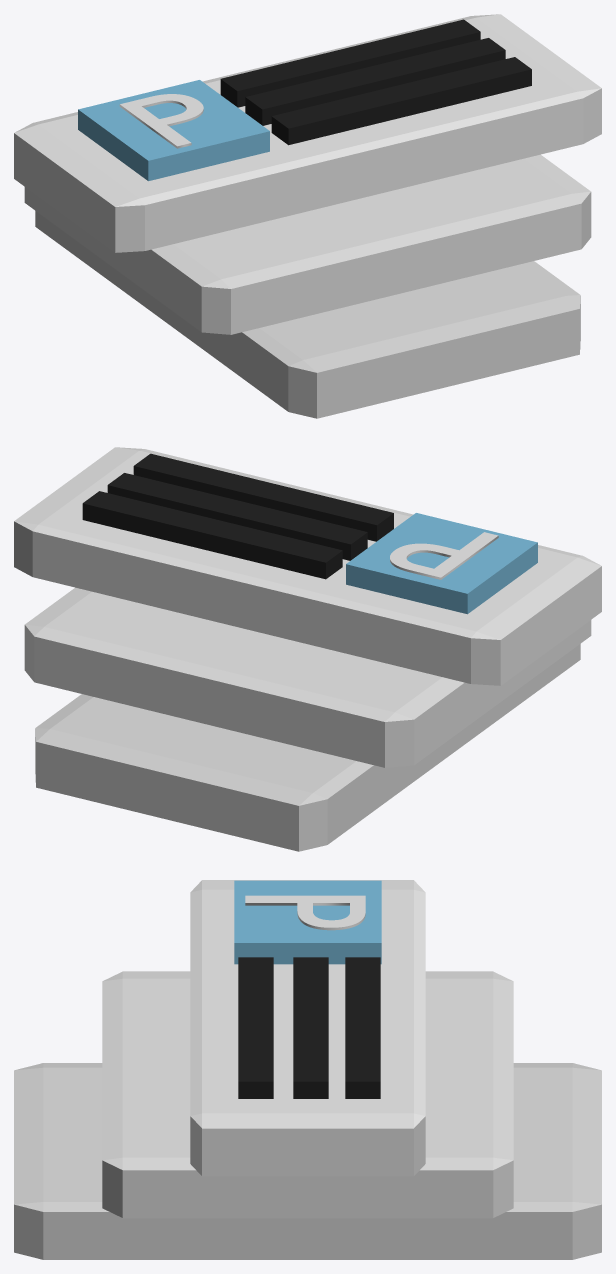
File: iconPosts.gltf
3 renders of one model, top to bottom at view 1: azimuth 30°, elevation 25°; view 2: azimuth 150°, elevation 25°; view 3: azimuth 270°, elevation 25°, orthographic. The views are drawn at different scales.
Visible parts, largest first — view 1: Cube.002, Cube.001, Cube, Cube.003, Cube.006, Cube.005, Cube.004, Text; view 2: Cube.002, Cube.001, Cube, Cube.003, Cube.004, Cube.006, Cube.005, Text; view 3: Cube.001, Cube, Cube.002, Cube.003, Cube.004, Cube.005, Cube.006, Text.
Boxes of the visible parts, bbox=[...] form: Cube.002: bbox=[14, 14, 601, 252]; Cube.001: bbox=[24, 154, 591, 334]; Cube: bbox=[35, 211, 580, 418]; Cube.003: bbox=[78, 80, 269, 181]; Cube.006: bbox=[271, 57, 531, 145]; Cube.005: bbox=[245, 38, 505, 125]; Cube.004: bbox=[220, 19, 480, 107]; Text: bbox=[119, 94, 203, 148]; Cube.002: bbox=[14, 447, 601, 685]; Cube.001: bbox=[24, 587, 591, 767]; Cube: bbox=[35, 644, 580, 851]; Cube.003: bbox=[346, 513, 537, 614]; Cube.004: bbox=[82, 491, 342, 579]; Cube.006: bbox=[133, 453, 393, 541]; Cube.005: bbox=[107, 473, 367, 560]; Text: bbox=[390, 532, 498, 579]; Cube.001: bbox=[102, 971, 513, 1218]; Cube: bbox=[14, 1063, 601, 1259]; Cube.002: bbox=[190, 880, 425, 1176]; Cube.003: bbox=[234, 880, 381, 964]; Cube.004: bbox=[345, 957, 380, 1098]; Cube.005: bbox=[293, 957, 328, 1098]; Cube.006: bbox=[238, 957, 273, 1098]; Text: bbox=[245, 895, 365, 930].
Bounding box in the file's own units: 2 × 0.7895 × 2.
